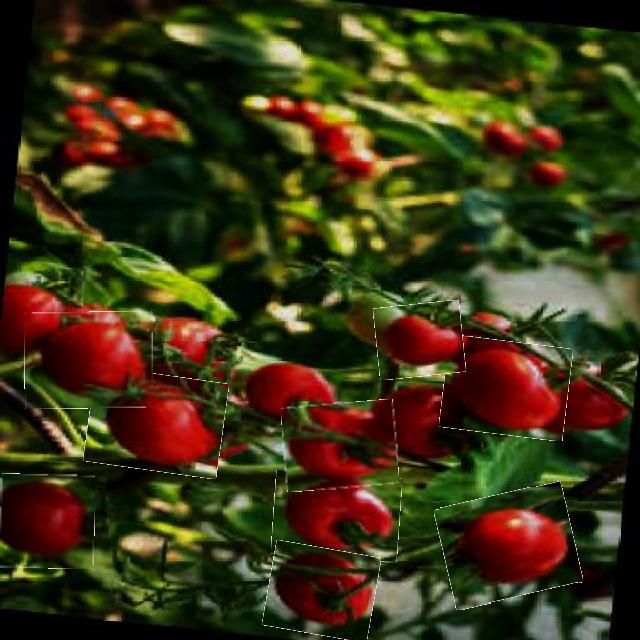tomato: (440, 488, 578, 604), (86, 371, 226, 475), (442, 338, 570, 437), (25, 312, 153, 408), (273, 472, 401, 560), (265, 544, 378, 639), (282, 402, 398, 490), (0, 474, 94, 568), (238, 356, 334, 432), (375, 302, 465, 378)
